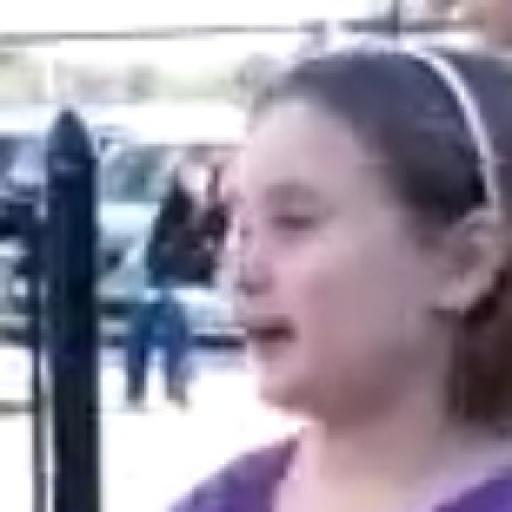Autism: (61, 3, 512, 425)
